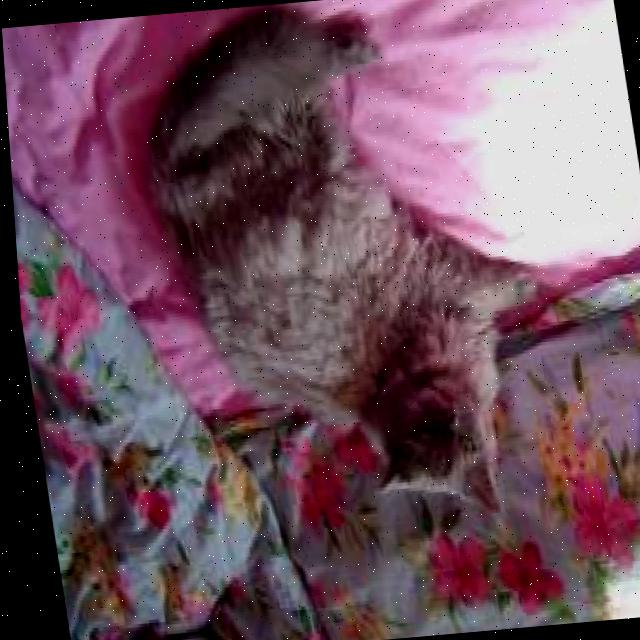Persian: (117, 0, 563, 547)
